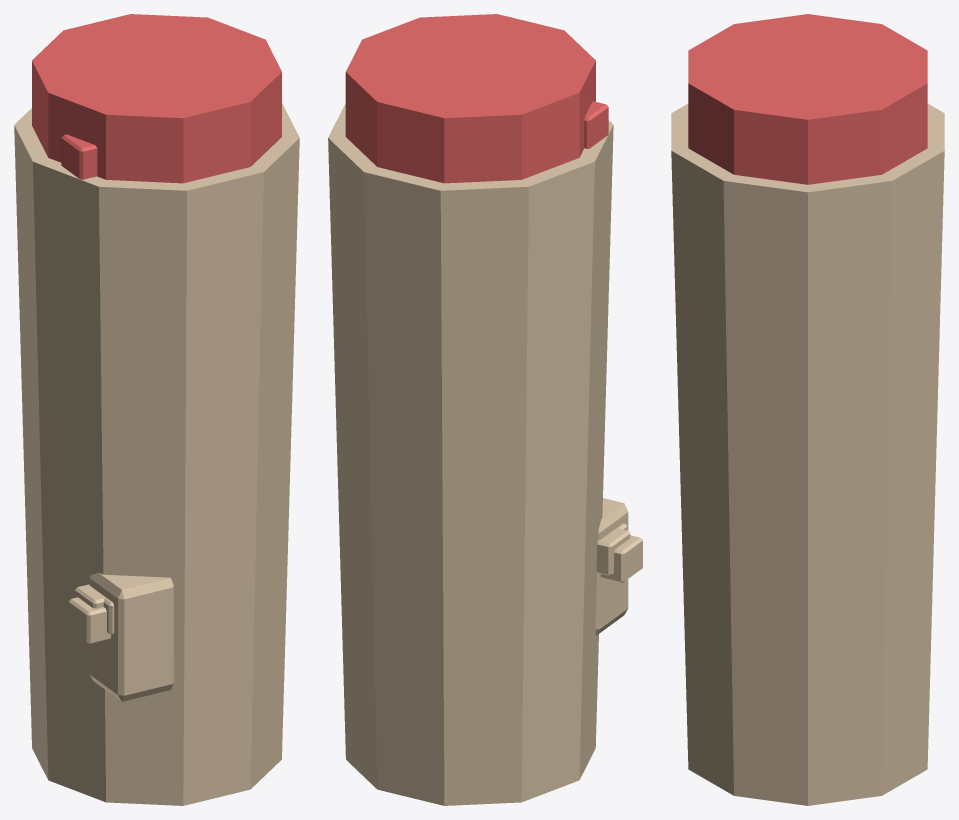
File: b16_ribbed_water_bottle.glb
3 renders of one model, left to right at view 1: azimuth 30°, elevation 25°; view 2: azimuth 150°, elevation 25°; view 3: azimuth 270°, elevation 25°, orthographic.
Visible parts, largest first — view 1: b16_ribbed_water_bottle; view 2: b16_ribbed_water_bottle; view 3: b16_ribbed_water_bottle.
Part boxes in pixels (x1,y1,x2,y2): b16_ribbed_water_bottle: (14,14,299,805); b16_ribbed_water_bottle: (328,14,642,805); b16_ribbed_water_bottle: (671,14,944,805).
Bounding box in the file's own units: 0.068 × 0.18 × 0.065.
